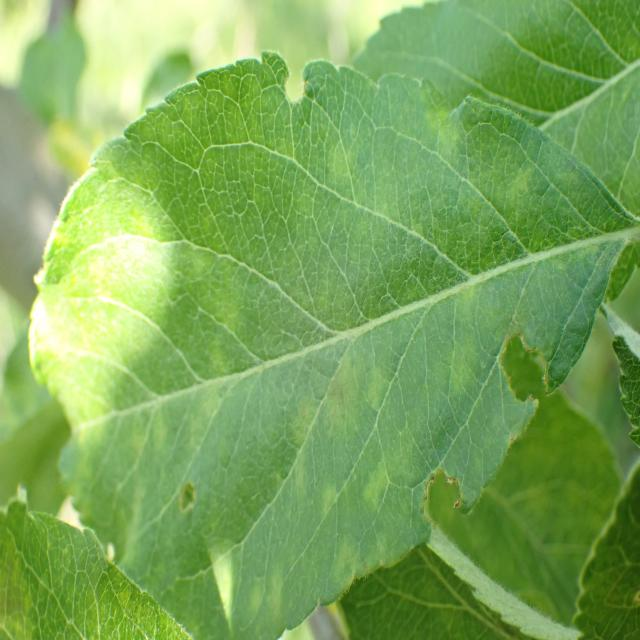scab: (60, 90, 552, 588)
